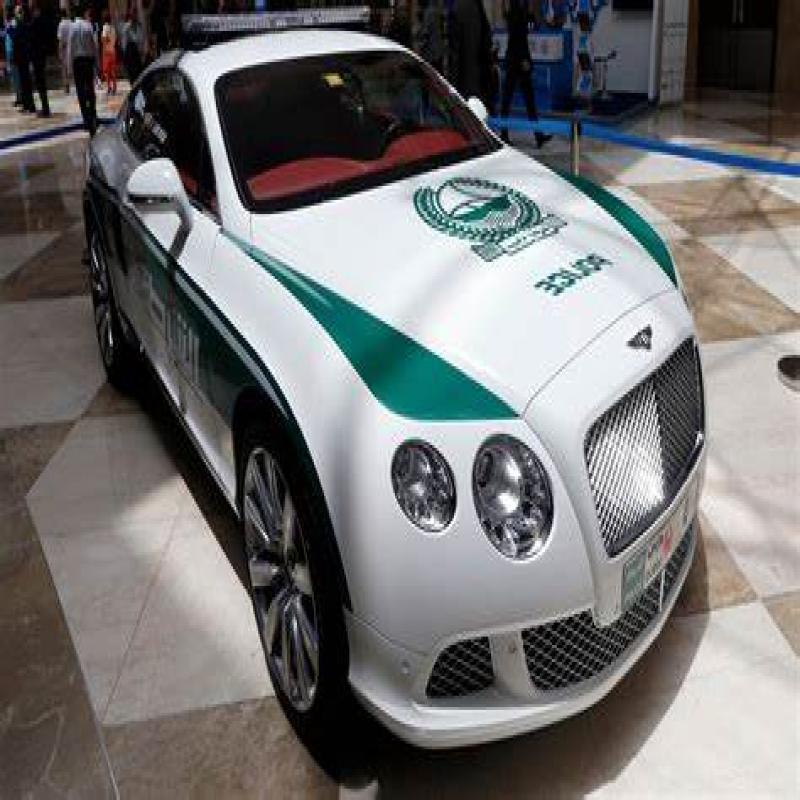AmbulanceSiren: (181, 7, 379, 58)
